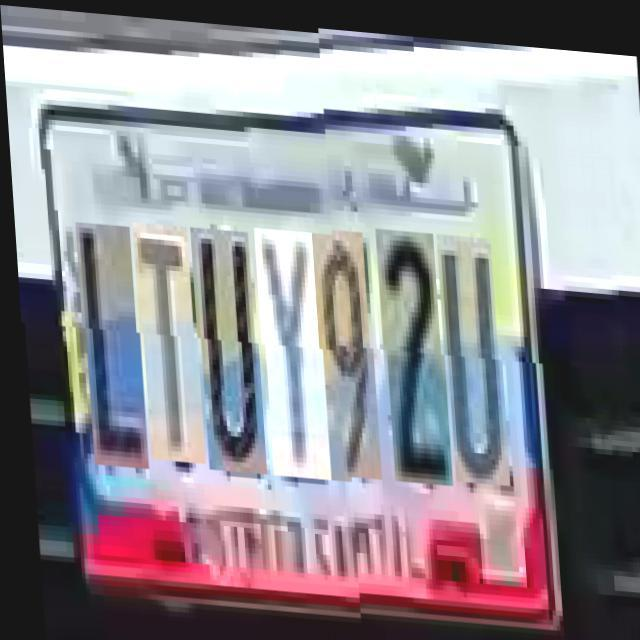2: (376, 227, 447, 483)
9: (313, 227, 377, 478)
L: (76, 221, 142, 467)
T: (133, 220, 200, 461)
U: (191, 224, 261, 470), (438, 231, 504, 482)
Y: (255, 223, 325, 474)
